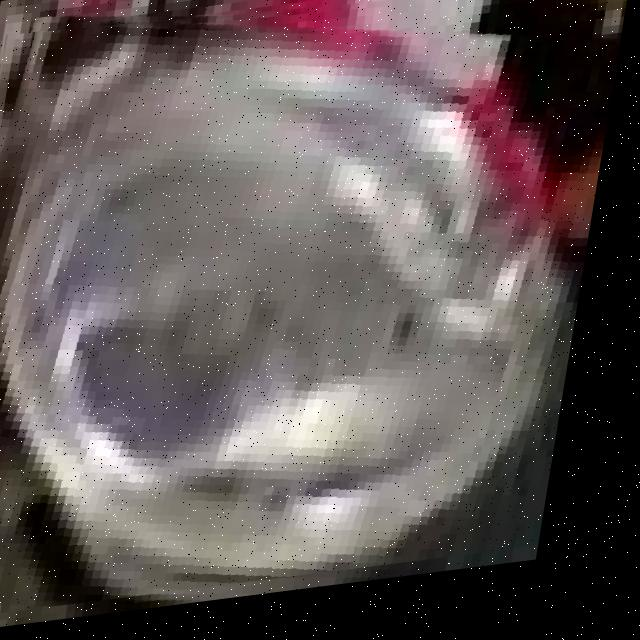litter: (0, 24, 618, 609)
